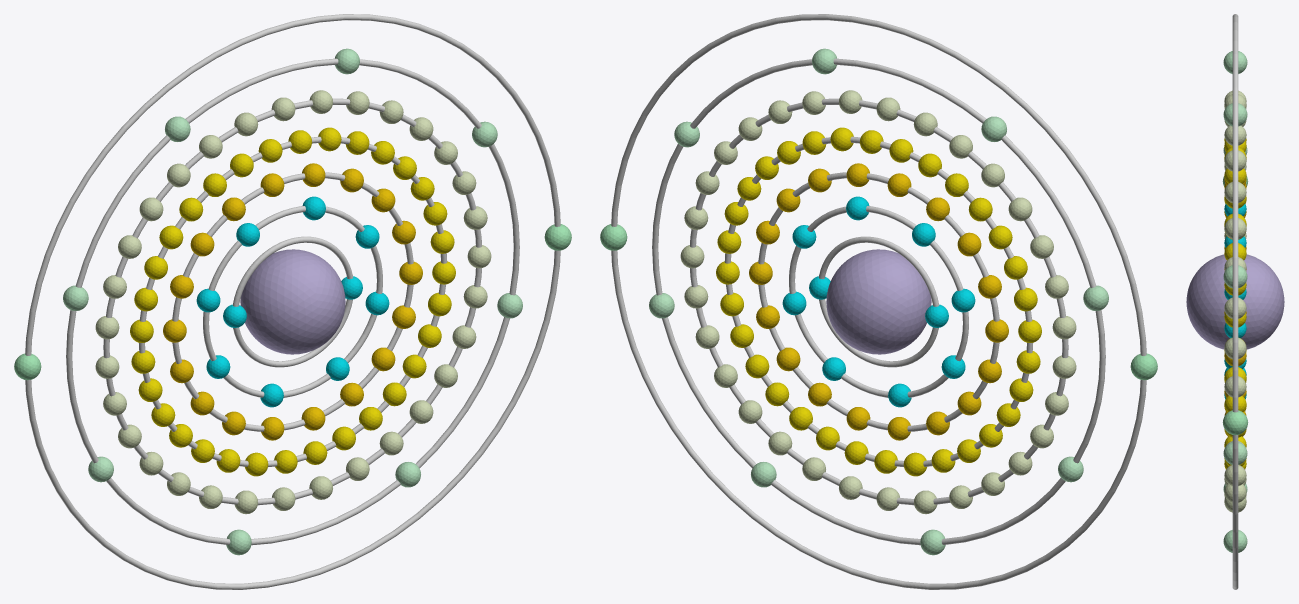
The picture shows the model from 3 angles, left to right: view 1: azimuth 30°, elevation 25°; view 2: azimuth 150°, elevation 25°; view 3: azimuth 270°, elevation 25°; orthographic projection. The views are drawn at different scales.
Parts seen in each view (by area): view 1: world; view 2: world; view 3: world.
Part boxes in pixels (x1=…): world: x1=14, y1=14, x2=571, y2=589; world: x1=600, y1=14, x2=1157, y2=589; world: x1=1186, y1=14, x2=1284, y2=589.
Size of the model in its own units: 2.67 by 2.59 by 0.44.
